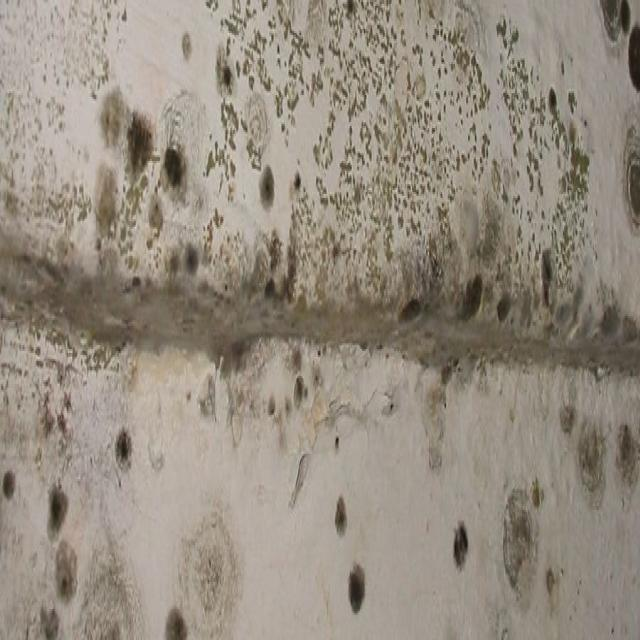wall_mold: (0, 1, 640, 640)
